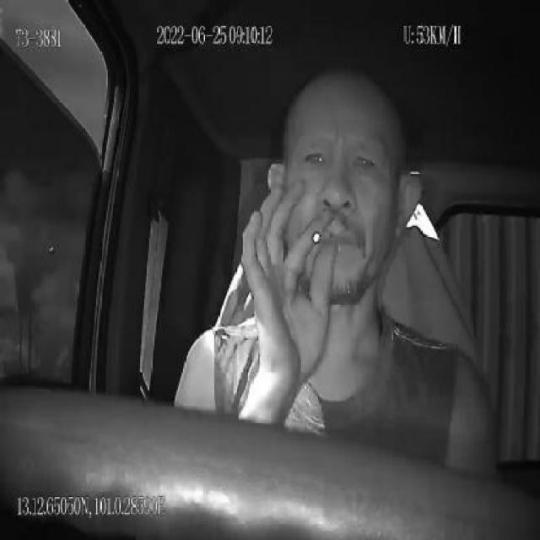smoking: (313, 230, 331, 242)
